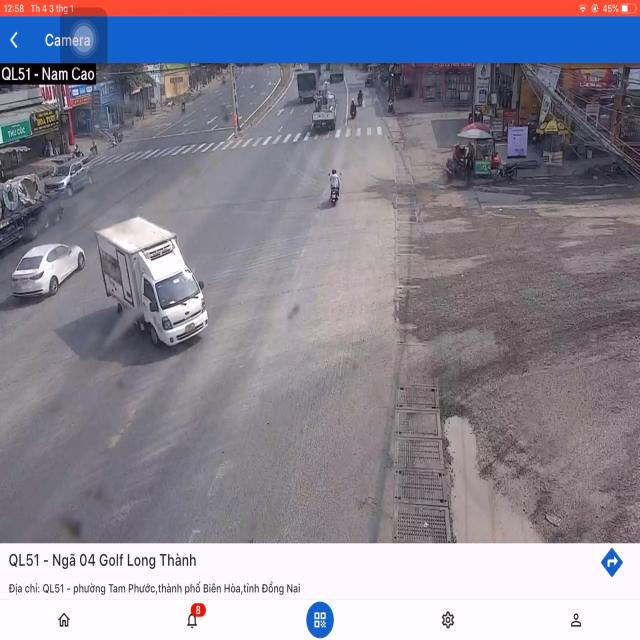car: (4, 242, 86, 302), (46, 160, 92, 201)
motorbike: (328, 164, 341, 208)
truck: (96, 217, 206, 350), (312, 90, 338, 134), (296, 70, 319, 105)
